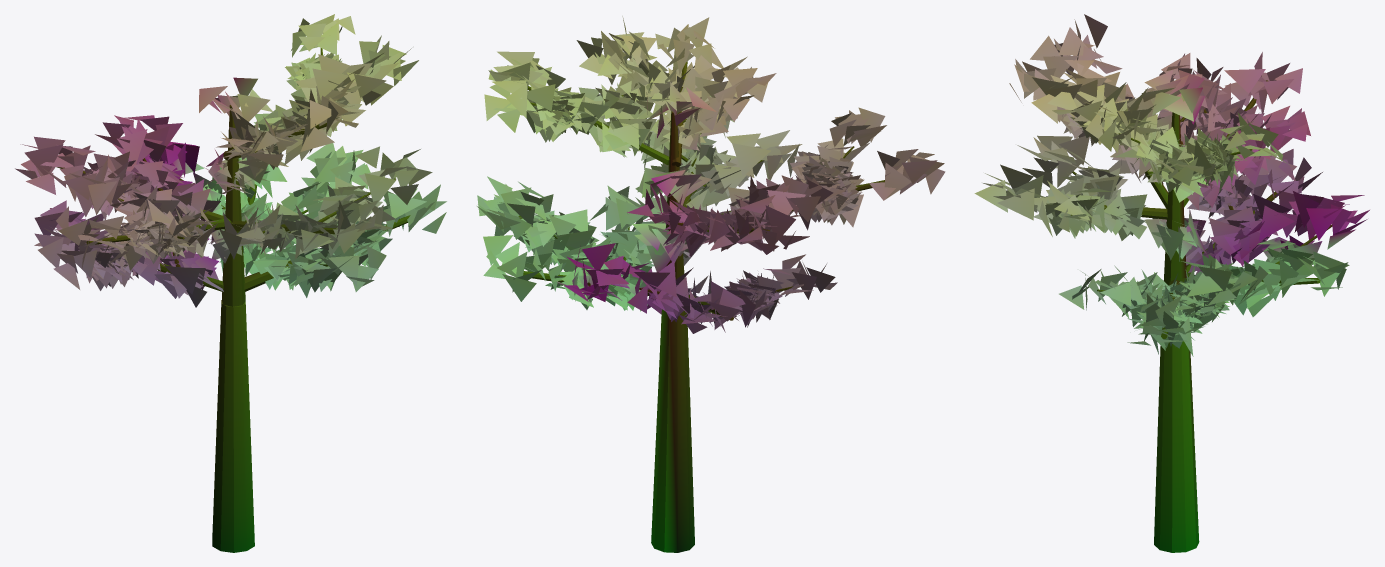
Rendered from ecological_savanna_established_01.glb.
3 views of the same model, side by side, from view 1: azimuth 30°, elevation 25°; view 2: azimuth 150°, elevation 25°; view 3: azimuth 270°, elevation 25° (orthographic). The views are drawn at different scales.
Visible parts, largest first — view 1: ecological_savanna_established_01; view 2: ecological_savanna_established_01; view 3: ecological_savanna_established_01.
Boxes of the visible parts, x1=… form: ecological_savanna_established_01: x1=15, y1=14, x2=446, y2=552; ecological_savanna_established_01: x1=477, y1=16, x2=945, y2=552; ecological_savanna_established_01: x1=974, y1=14, x2=1369, y2=552.
Size of the model in its own units: 16.22 by 17.3 by 12.62.
